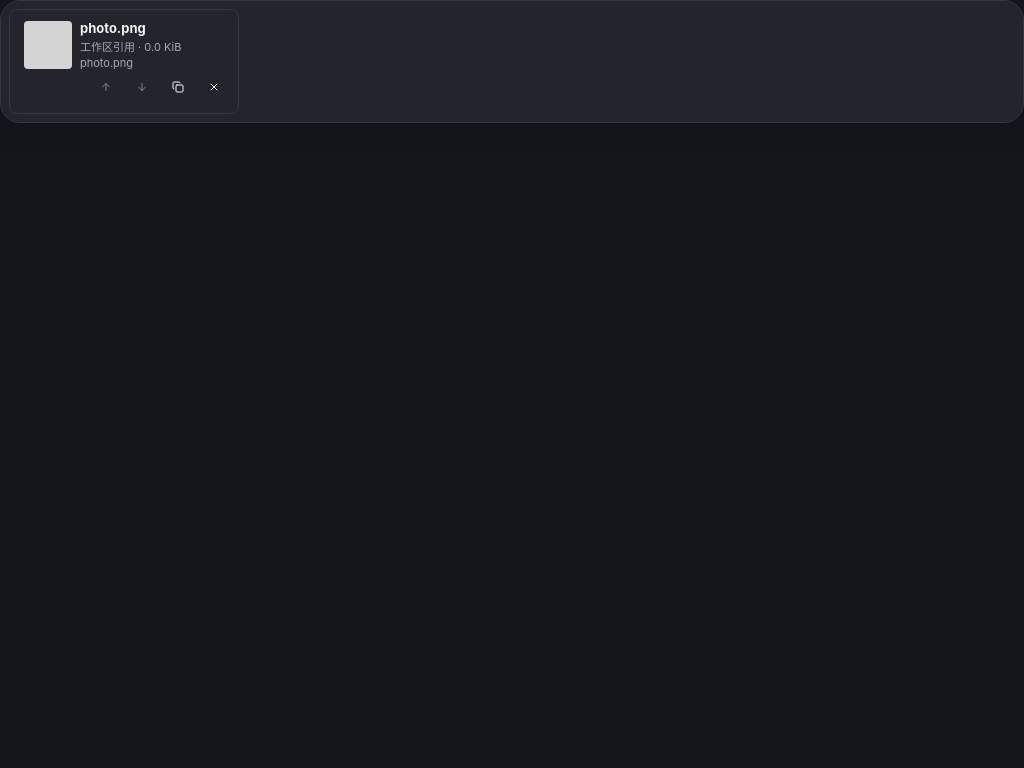
keeps the photo dialog outside the glass composer and restores its opener
The width and height of the screenshot is (1024, 768).
Click the button "photo.png 工作区引用 · 0.0 KiB photo.png": point(124, 45) [18,18,230,72]
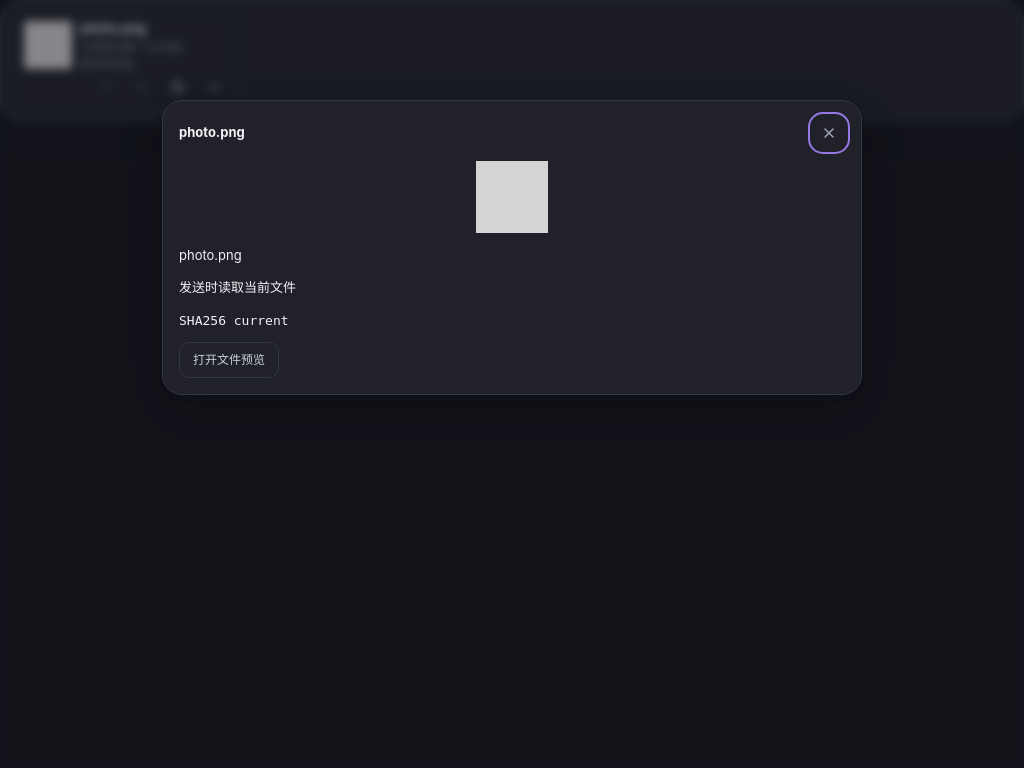
Press Escape
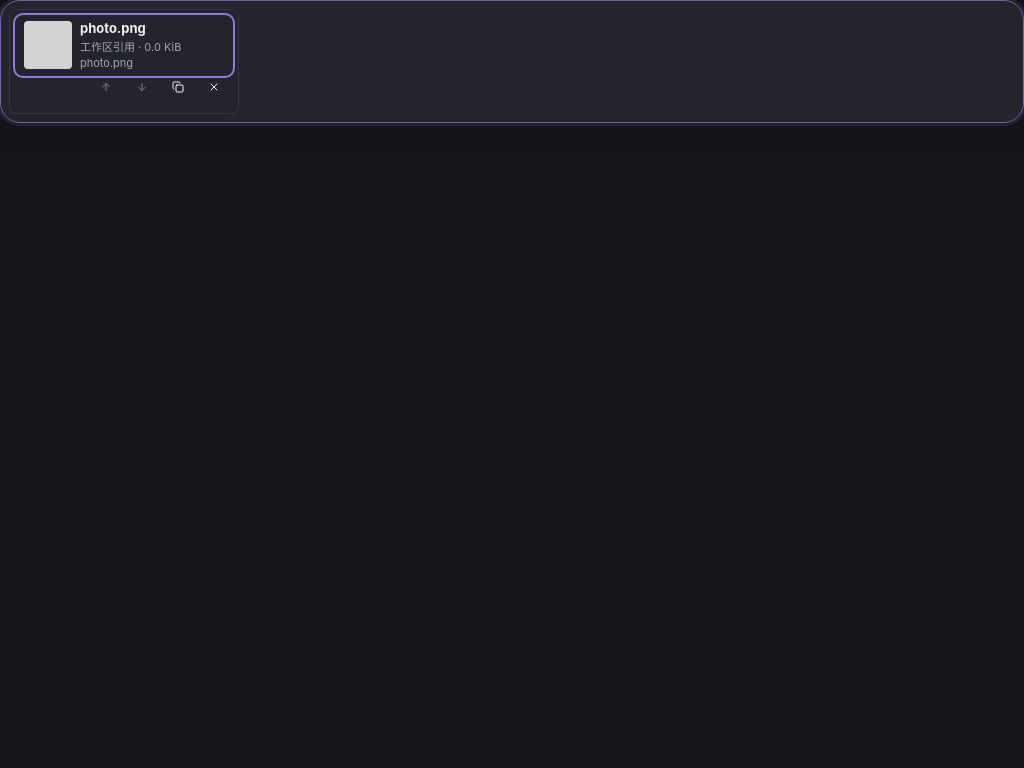
Expected: the dialog is gone
